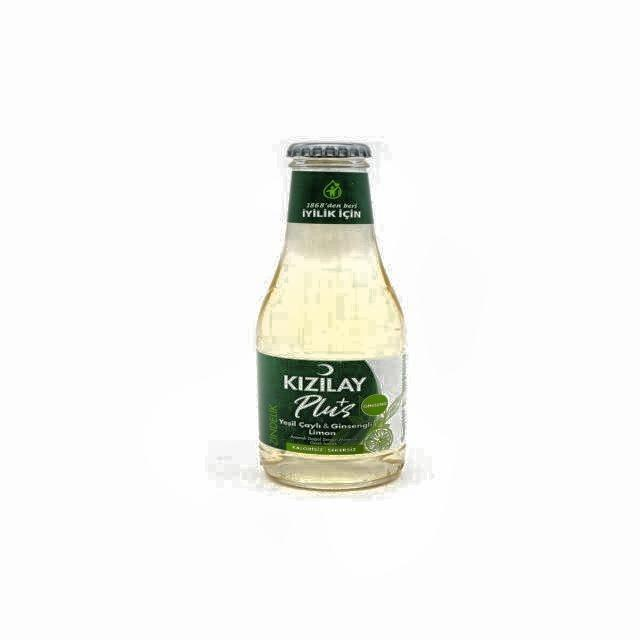glass: (256, 141, 407, 495)
